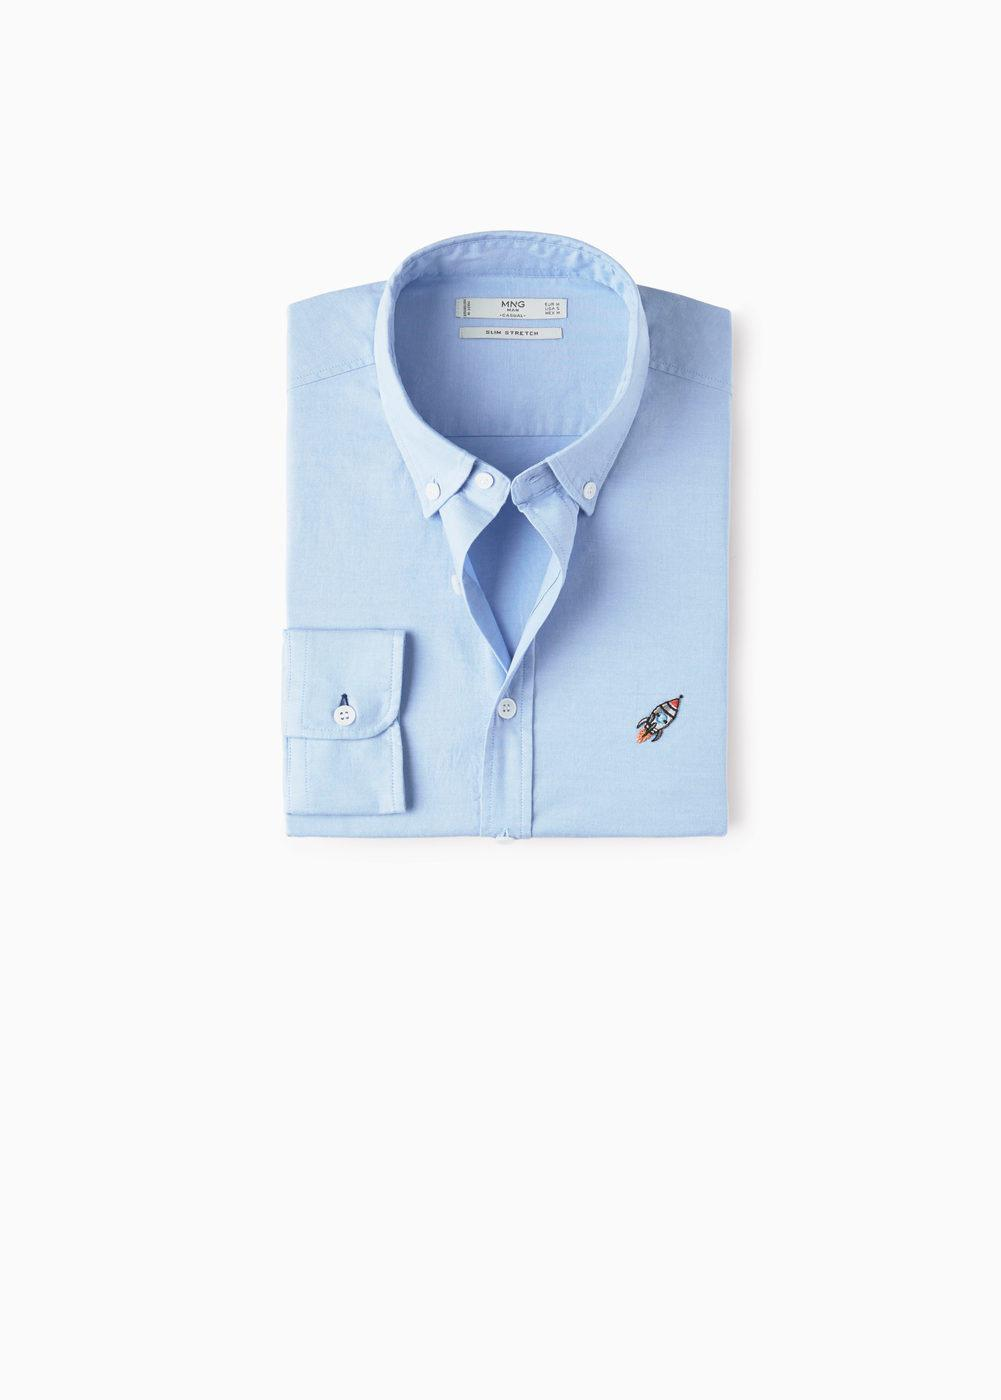teeshirt: (261, 227, 753, 895)
